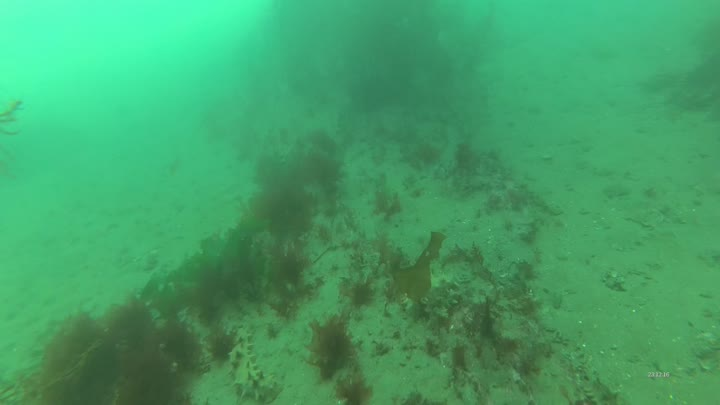holothurian: (226, 325, 286, 405)
